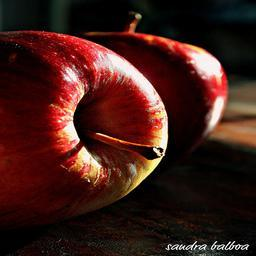apple: (1, 28, 169, 234)
